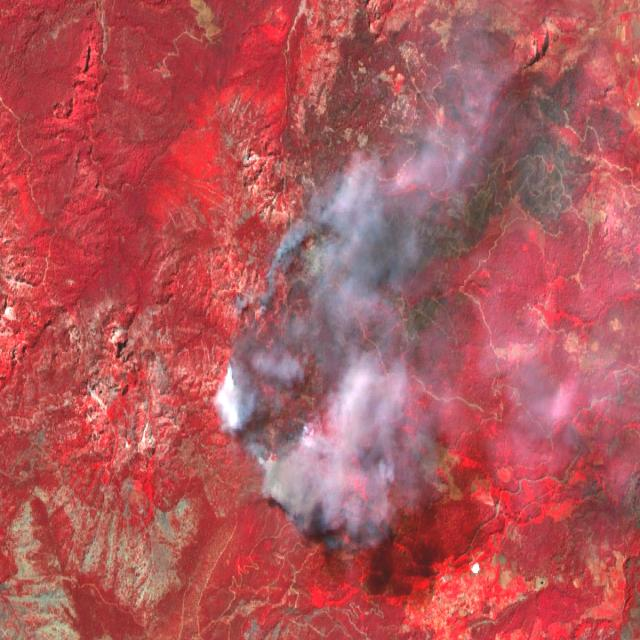fire: (213, 230, 322, 514)
